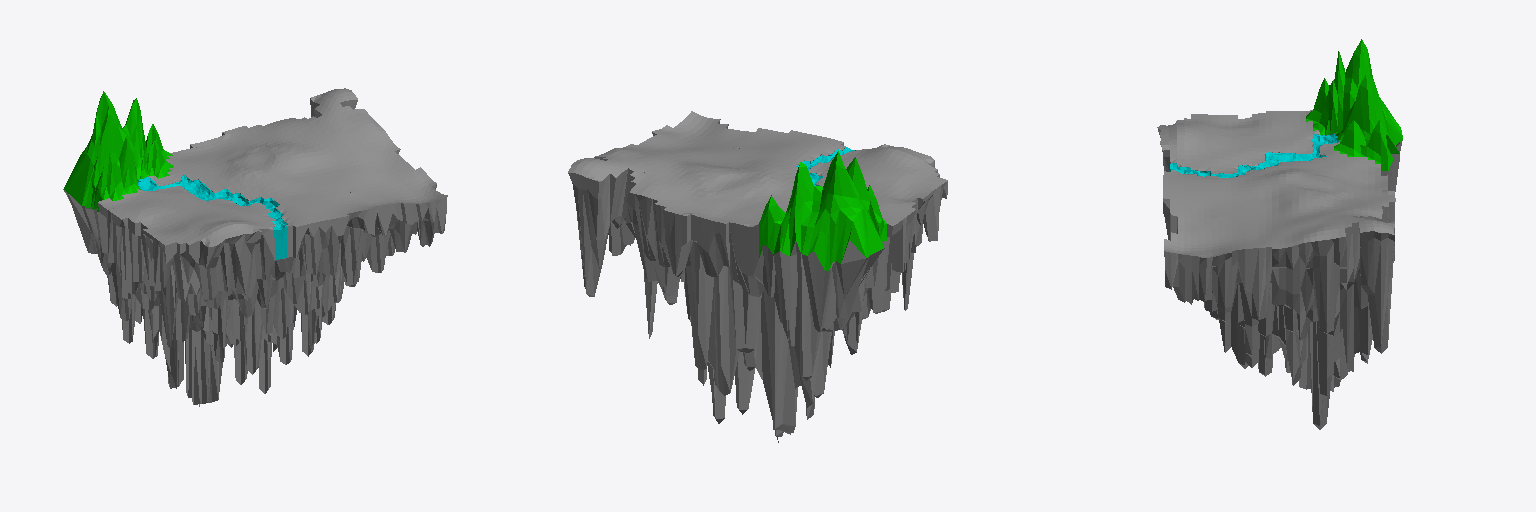
Rendered from ile_hiver01.obj.
3 renders of one model, left to right at view 1: azimuth 30°, elevation 25°; view 2: azimuth 150°, elevation 25°; view 3: azimuth 270°, elevation 25°, orthographic.
Parts seen in each view (by area): view 1: Box2; view 2: Box2; view 3: Box2.
Boxes of the visible parts, x1,y1,x2,y2 form: Box2: [63, 88, 447, 406]; Box2: [568, 111, 947, 442]; Box2: [1157, 39, 1402, 429].
Bounding box in the file's own units: 1945 × 2079 × 1422.